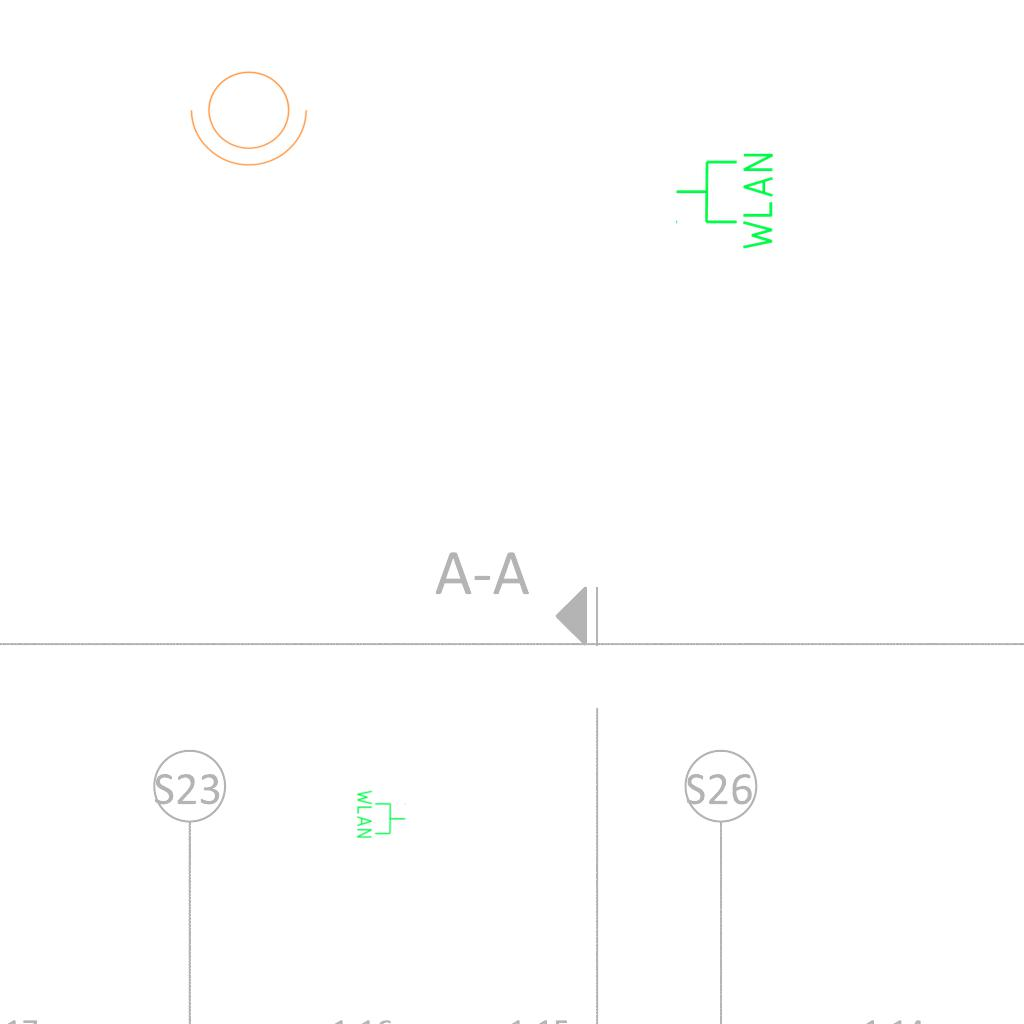Scheinwerfer_fuer_Alarmbeleuchtung: (186, 59, 318, 171)
WLAN: (673, 149, 777, 254), (355, 788, 407, 840)
